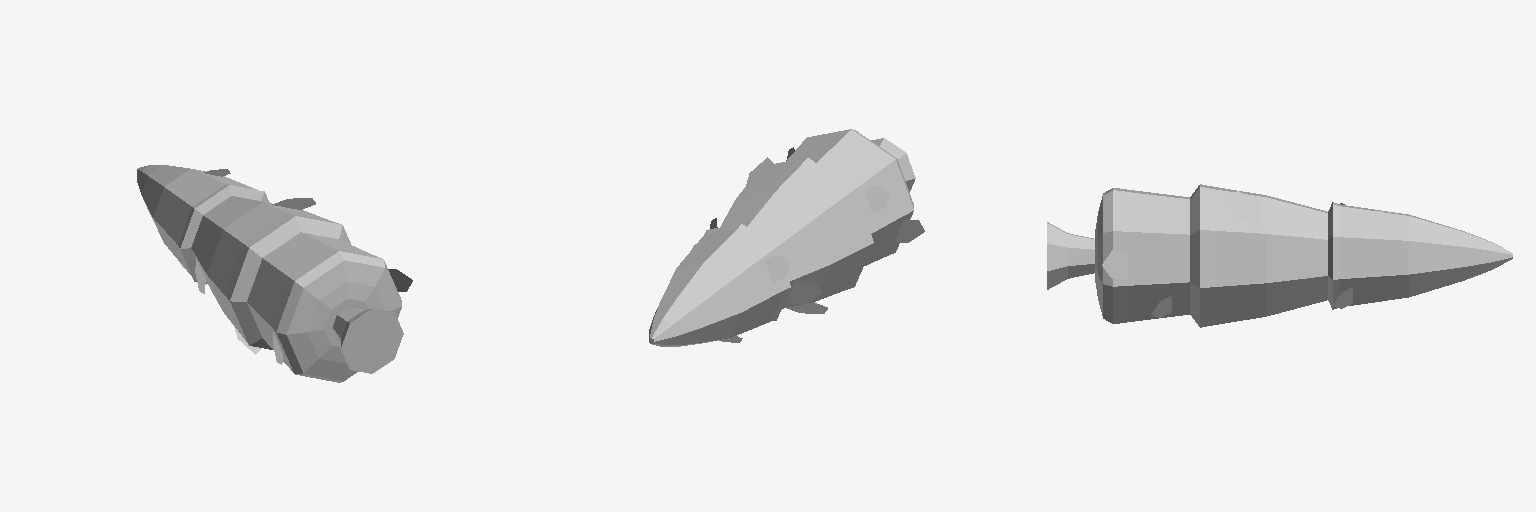
Rendered from tree.obj.
3 views of the same model, side by side, from view 1: azimuth 30°, elevation 25°; view 2: azimuth 150°, elevation 25°; view 3: azimuth 270°, elevation 25° (orthographic).
Visible parts, largest first — view 1: tree.007; view 2: tree.007; view 3: tree.007.
Boxes of the visible parts, <box> form: tree.007: <box>137,165,412,382</box>; tree.007: <box>649,129,924,346</box>; tree.007: <box>1047,184,1512,327</box>.
Bounding box in the file's own units: 0.65 × 0.6511 × 1.92.